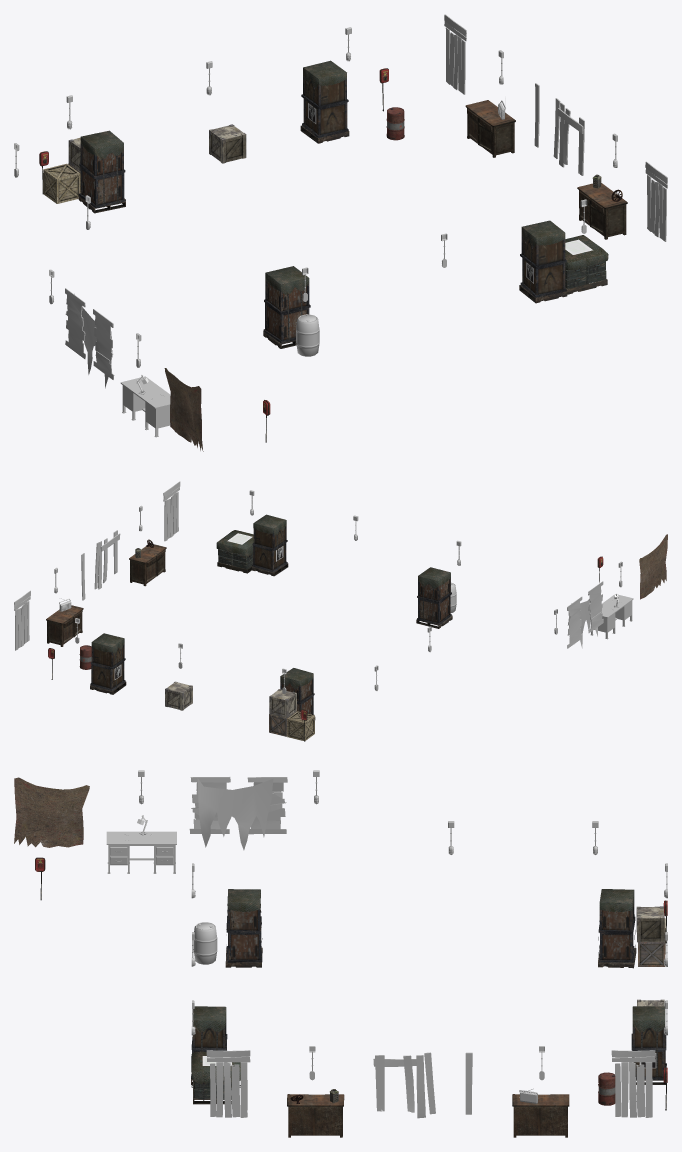
Rendered from Small Props_Lower.fbx.
The picture shows the model from 3 angles, top to bottom: view 1: azimuth 30°, elevation 25°; view 2: azimuth 150°, elevation 25°; view 3: azimuth 270°, elevation 25°; orthographic projection. The views are drawn at different scales.
Parts seen in each view (by area): view 1: CrateTop_M (×4), S_Cabinet_T01 (×2), L_WindowPlankSet_T01 (×2), AuraCrate_02 (1) (×2), AuraCrate_01 (2) (×2), S_WindowPlankSet_T01 (×2), AuraCrate_02 (2) (×2), TornCloth_T03, OldMetalTable, AuraCrate_01 (1) (×2), WoodenCrate_T03, WoodenCrate_T01 (+2 smaller); view 2: CrateTop_M (×4), S_Cabinet_T01 (×2), L_WindowPlankSet_T01 (×2), AuraCrate_02 (1) (×2), WoodenCrate_T01 (×2), S_WindowPlankSet_T01 (×2), TornCloth_T03, AuraCrate_02 (2) (×2), OldMetalTable, AuraCrate_01 (2), WoodenCrate_T03, CrateTop_L (+1 smaller); view 3: L_WindowPlankSet_T01 (×2), S_Cabinet_T01 (×2), TornCloth_T03, CrateTop_M (×4), Cloth_02, AuraCrate_01 (2) (×2), OldMetalTable, S_WindowPlankSet_T01 (×2), AuraCrate_01 (1) (×2), AuraCrate_02 (2) (×2), WoodenCrate_T01, BigWaterBarrel_T01 (+4 smaller).
Part boxes in pixels (box(x1,y1,x2,y2)): CrateTop_M (×4): box(80, 60, 565, 342); S_Cabinet_T01 (×2): box(465, 100, 627, 239); L_WindowPlankSet_T01 (×2): box(444, 14, 667, 241); AuraCrate_02 (1) (×2): box(302, 98, 566, 297); AuraCrate_01 (2) (×2): box(79, 167, 309, 343); S_WindowPlankSet_T01 (×2): box(65, 288, 114, 379); AuraCrate_02 (2) (×2): box(301, 75, 566, 268); TornCloth_T03: box(164, 368, 203, 451); OldMetalTable: box(120, 376, 175, 437); AuraCrate_01 (1) (×2): box(79, 136, 310, 314); WoodenCrate_T03: box(43, 163, 80, 203); WoodenCrate_T01: box(209, 124, 246, 163); CrateTop_M (×4): box(91, 514, 450, 692); S_Cabinet_T01 (×2): box(46, 544, 166, 646); L_WindowPlankSet_T01 (×2): box(14, 481, 180, 650); AuraCrate_02 (1) (×2): box(90, 543, 287, 690); WoodenCrate_T01 (×2): box(165, 681, 296, 717); S_WindowPlankSet_T01 (×2): box(567, 581, 603, 648); TornCloth_T03: box(639, 534, 667, 599); AuraCrate_02 (2) (×2): box(90, 524, 287, 669); OldMetalTable: box(590, 594, 633, 639); AuraCrate_01 (2): box(417, 595, 451, 624); WoodenCrate_T03: box(287, 711, 314, 740); CrateTop_L: box(216, 530, 253, 568); L_WindowPlankSet_T01 (×2): box(206, 1050, 655, 1117); S_Cabinet_T01 (×2): box(287, 1094, 569, 1137); TornCloth_T03: box(14, 777, 89, 847); CrateTop_M (×4): box(193, 889, 665, 1080); Cloth_02: box(197, 778, 273, 850); AuraCrate_01 (2) (×2): box(226, 932, 634, 962); OldMetalTable: box(106, 831, 176, 873); S_WindowPlankSet_T01 (×2): box(189, 777, 287, 834); AuraCrate_01 (1) (×2): box(226, 889, 635, 933); AuraCrate_02 (2) (×2): box(191, 1019, 666, 1050); WoodenCrate_T01: box(636, 906, 664, 942); BigWaterBarrel_T01: box(193, 922, 217, 964).
Bounding box in the file's own units: 18.04 × 2.79 × 17.96.
